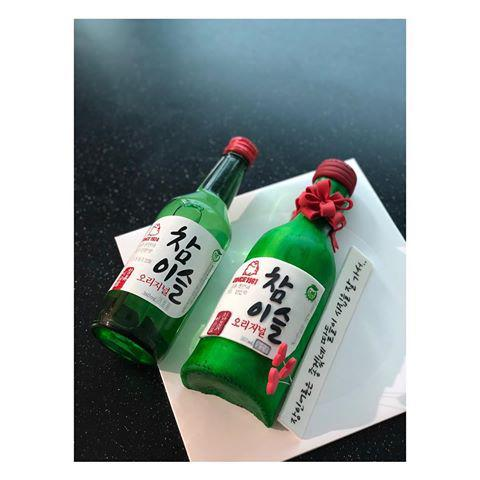soju: (88, 131, 366, 426)
